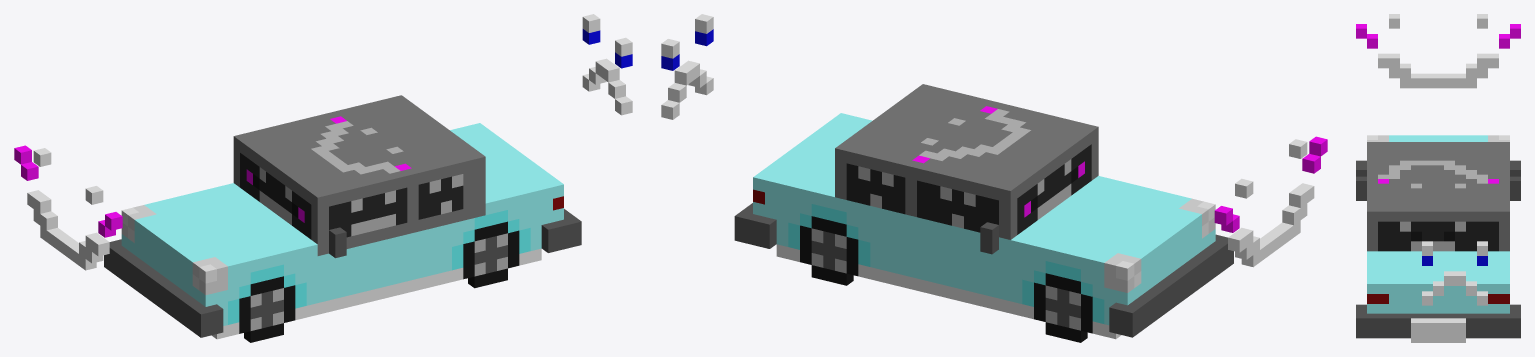
The model's file is car_07.glb.
3 renders of one model, left to right at view 1: azimuth 30°, elevation 25°; view 2: azimuth 150°, elevation 25°; view 3: azimuth 270°, elevation 25°, orthographic. The views are drawn at different scales.
Visible parts, largest first — view 1: ObjObject; view 2: ObjObject; view 3: ObjObject.
Part boxes in pixels (x1=…): ObjObject: x1=14, y1=14, x2=632, y2=342; ObjObject: x1=661, y1=14, x2=1327, y2=342; ObjObject: x1=1356, y1=14, x2=1520, y2=342.
Bounding box in the file's own units: 5 × 1.5 × 1.5.
1 material, 1 textured.
